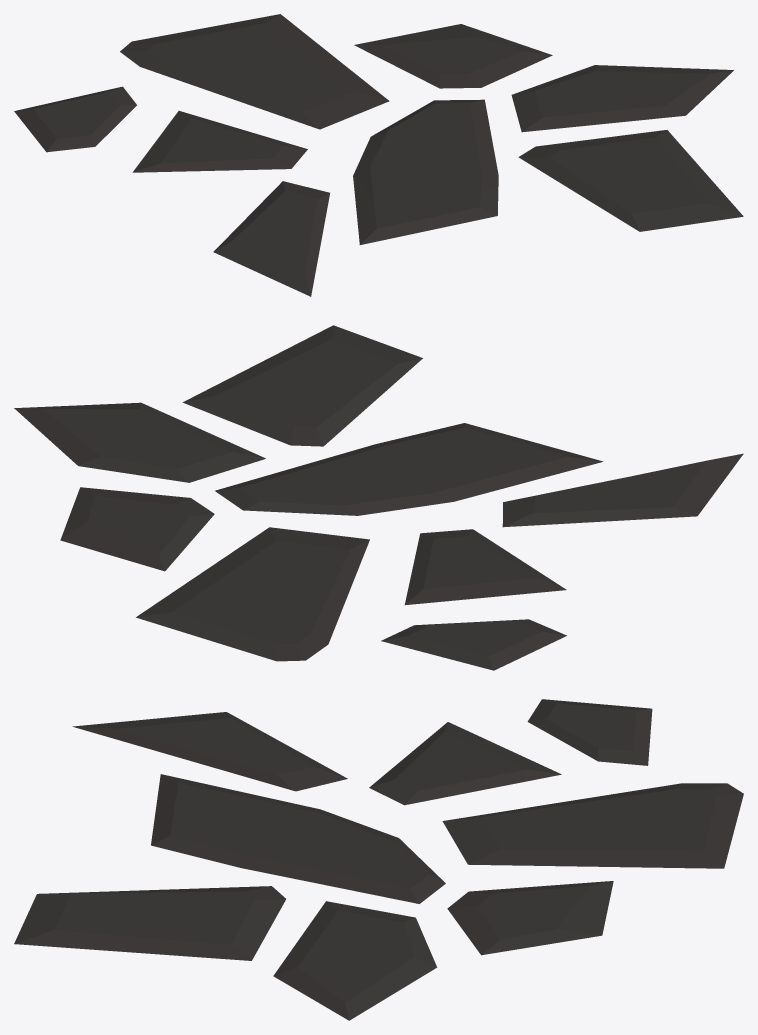
The model's file is Stone_Module_1M.glb.
3 views of the same model, one above another, from view 1: azimuth 30°, elevation 25°; view 2: azimuth 150°, elevation 25°; view 3: azimuth 270°, elevation 25° (orthographic). The views are drawn at different scales.
Parts seen in each view (by area): view 1: Stone_Module_1M; view 2: Stone_Module_1M; view 3: Stone_Module_1M.
Part boxes in pixels (x1=…): Stone_Module_1M: x1=14, y1=14, x2=743, y2=296; Stone_Module_1M: x1=14, y1=325, x2=743, y2=670; Stone_Module_1M: x1=14, y1=699, x2=743, y2=1020.
Size of what is drawn, in the model's own units: 1.23 by 0.00943 by 1.18.
1 material, 1 textured.
